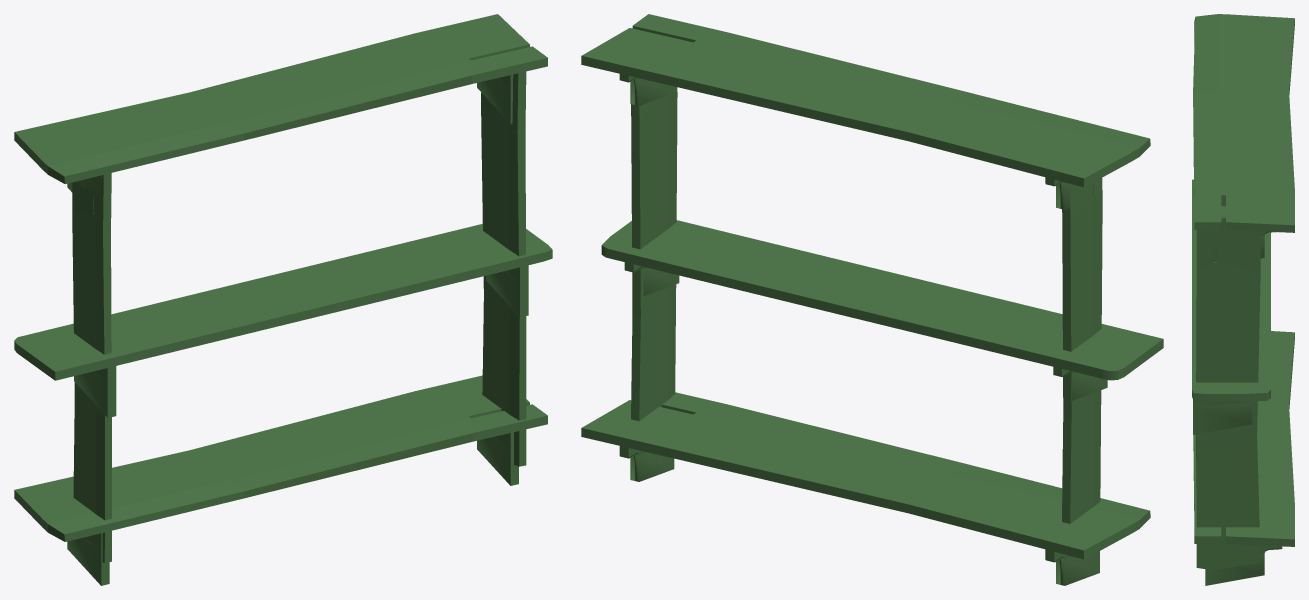
File: Shelf_Grp_08_Lod0.fbx
3 views of the same model, side by side, from view 1: azimuth 30°, elevation 25°; view 2: azimuth 150°, elevation 25°; view 3: azimuth 270°, elevation 25° (orthographic). The views are drawn at different scales.
Parts seen in each view (by area): view 1: Shelf_Grp_08_Lod0; view 2: Shelf_Grp_08_Lod0; view 3: Shelf_Grp_08_Lod0.
Part boxes in pixels (box(x1,y1,x2,y2)): Shelf_Grp_08_Lod0: box(14, 14, 552, 585); Shelf_Grp_08_Lod0: box(581, 14, 1163, 585); Shelf_Grp_08_Lod0: box(1192, 14, 1294, 585).
Bounding box in the file's own units: 221 × 179 × 44.63.
